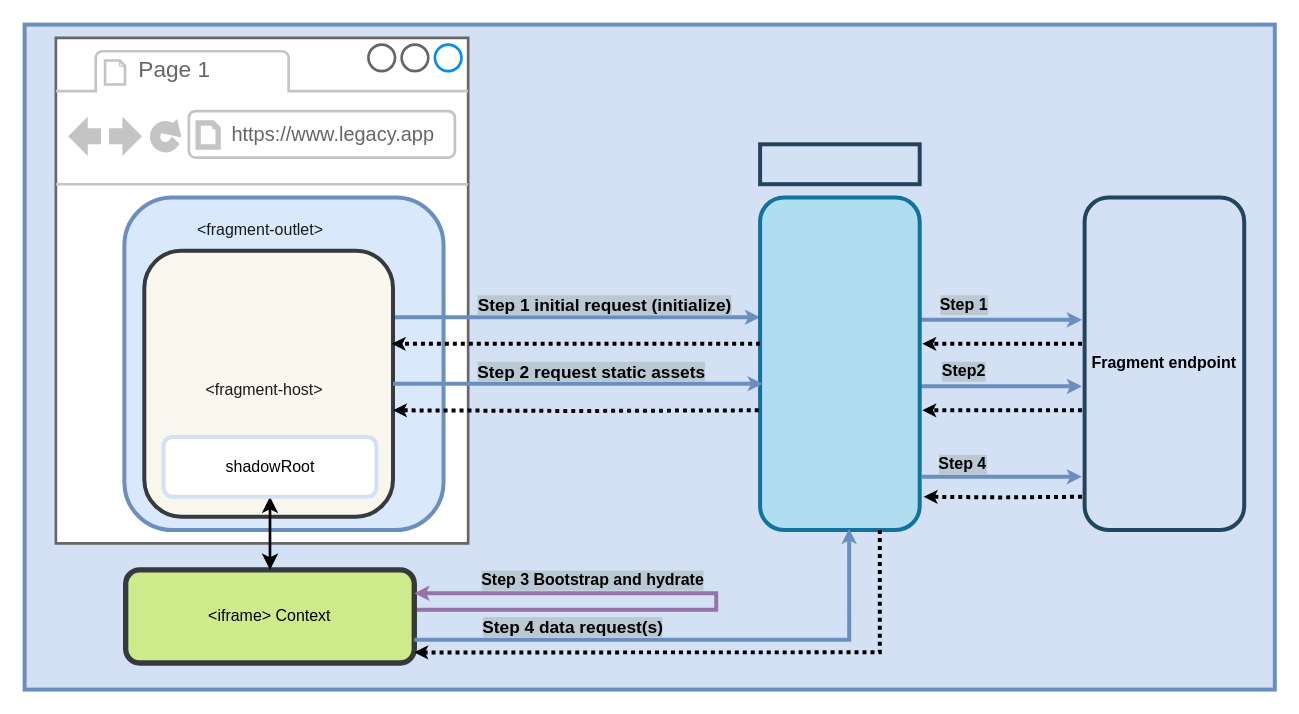
The diagram is 1299 pixels wide and 714 high, and some of its shapes have lost their labels. The box of each missing label's shape, as (x1, y1, x2, y2) in pixels:
Fragment gateway: (757, 195, 921, 531)
reroute to fragment endpoint: (757, 142, 921, 186)
